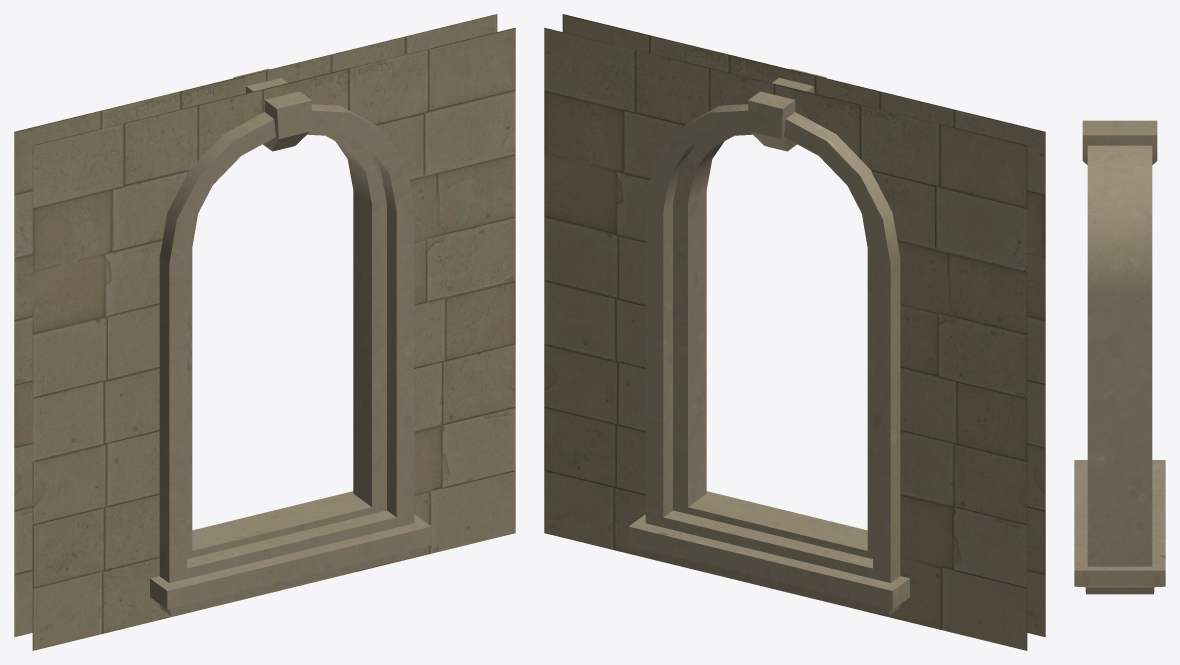
Rendered from ARC0510023.fbx.
3 renders of one model, left to right at view 1: azimuth 30°, elevation 25°; view 2: azimuth 150°, elevation 25°; view 3: azimuth 270°, elevation 25°, orthographic. The views are drawn at different scales.
Parts seen in each view (by area): view 1: smARC0510023; view 2: smARC0510023; view 3: smARC0510023.
Part boxes in pixels (left/top/right/bottom): smARC0510023: left=14, top=14, right=515, bottom=650; smARC0510023: left=544, top=14, right=1045, bottom=650; smARC0510023: left=1074, top=120, right=1165, bottom=594.
Bounding box in the file's own units: 300 × 300 × 57.08.
Materials: 1 (1 with a texture image).
